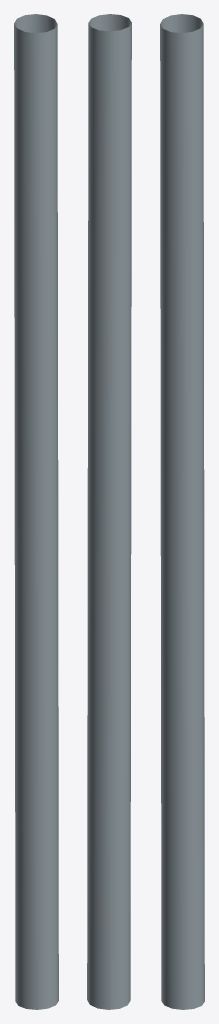
The model's file is coluna.gltf.
3 views of the same model, side by side, from view 1: azimuth 30°, elevation 25°; view 2: azimuth 210°, elevation 25°; view 3: azimuth 330°, elevation 25° (orthographic).
Parts seen in each view (by area): view 1: barrierMedium.001; view 2: barrierMedium.001; view 3: barrierMedium.001.
Boxes of the visible parts, bbox=[...] form: barrierMedium.001: bbox=[14, 14, 58, 1009]; barrierMedium.001: bbox=[87, 14, 131, 1009]; barrierMedium.001: bbox=[160, 14, 204, 1009].
Size of the model in its own units: 0.1582 by 3.8 by 0.1528.
